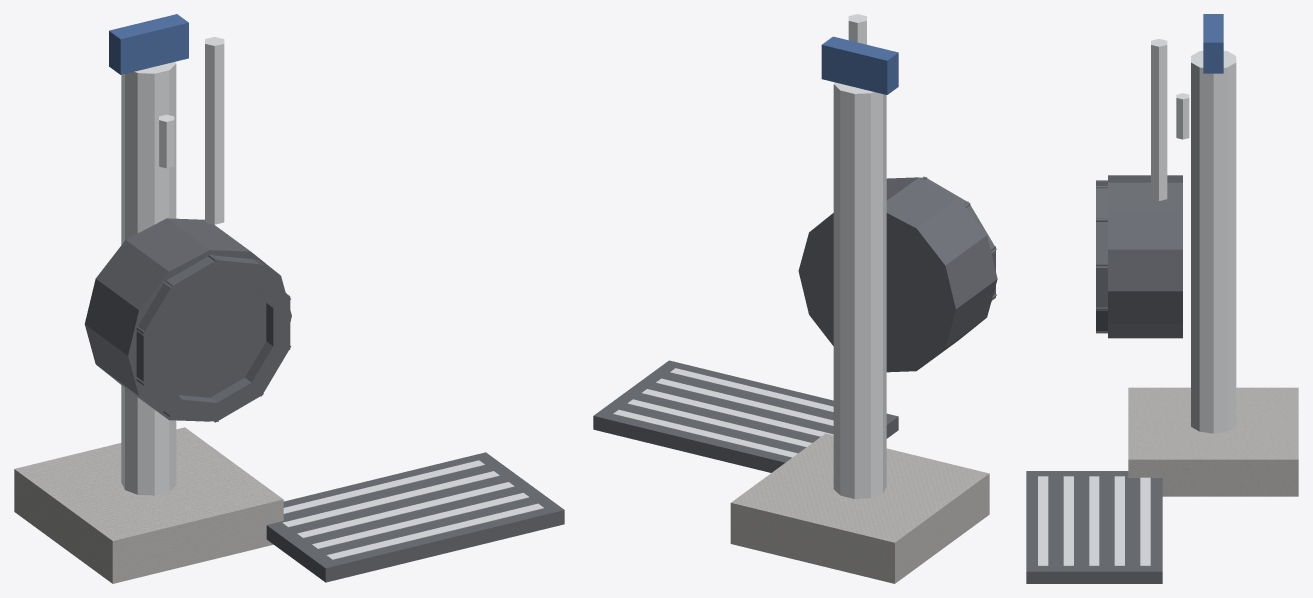
The model's file is marina-and-yacht-club-marina-and-yacht-club-wash-down--e1110472__38297.glb.
3 views of the same model, side by side, from view 1: azimuth 30°, elevation 25°; view 2: azimuth 150°, elevation 25°; view 3: azimuth 270°, elevation 25° (orthographic). The views are drawn at different scales.
Parts seen in each view (by area): view 1: marina-and-yacht-club-wash-down-point; view 2: marina-and-yacht-club-wash-down-point; view 3: marina-and-yacht-club-wash-down-point.
Boxes of the visible parts, <box> form: marina-and-yacht-club-wash-down-point: <box>14,14,564,583</box>; marina-and-yacht-club-wash-down-point: <box>593,14,997,583</box>; marina-and-yacht-club-wash-down-point: <box>1026,14,1298,583</box>.
Size of the model in its own units: 1.15 by 1.4 by 0.8.
Materials: 4 (1 with a texture image).
